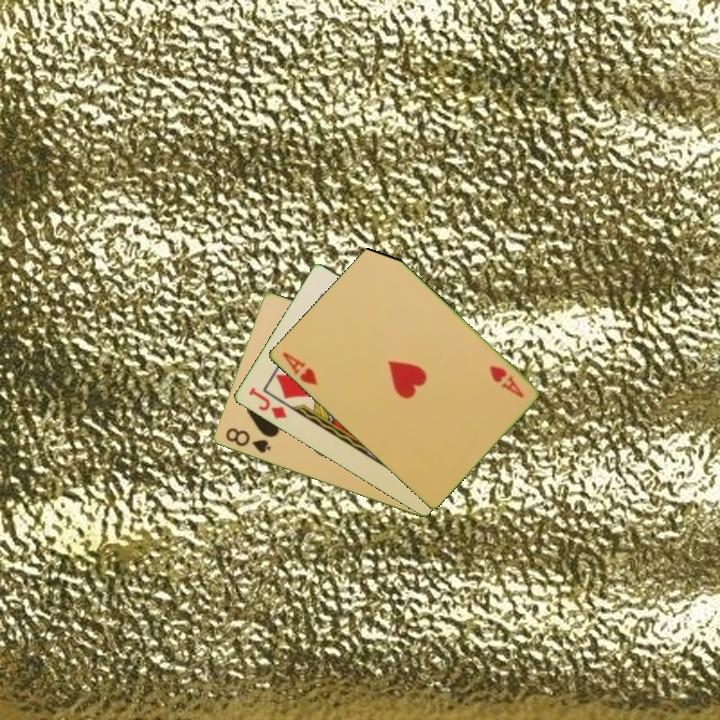8s: (222, 424, 273, 456)
Ah: (278, 348, 320, 388), (485, 361, 526, 401)
Jd: (245, 384, 290, 422)
